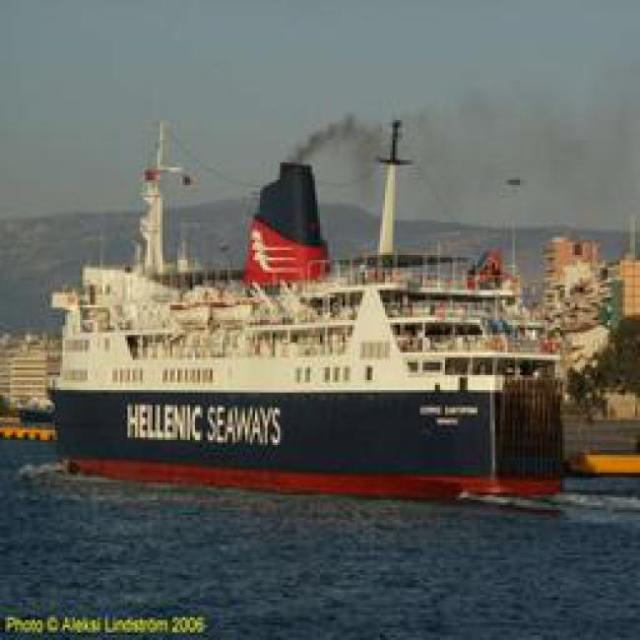boat: (44, 277, 576, 505)
